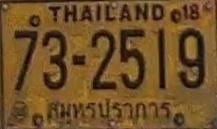1: (156, 28, 166, 89)
2: (90, 28, 116, 90)
3: (42, 30, 66, 90)
5: (119, 28, 145, 89)
7: (13, 29, 37, 90)
9: (178, 27, 204, 88)
SPK: (43, 94, 176, 123)
